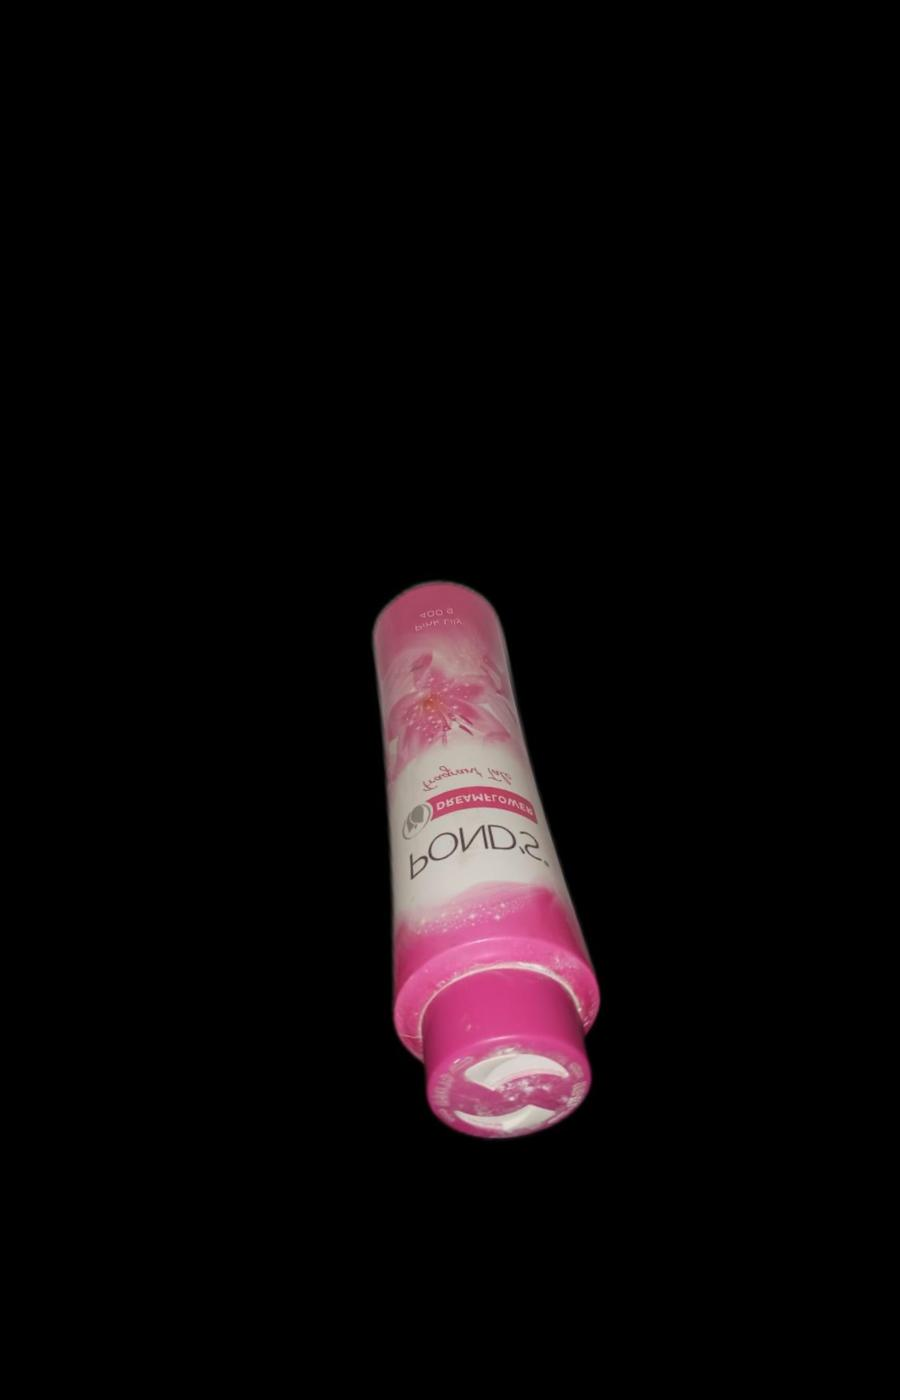Pond-s Dreamflower Pink Lily Fragrant Talc 400 g: (317, 559, 619, 1172)
